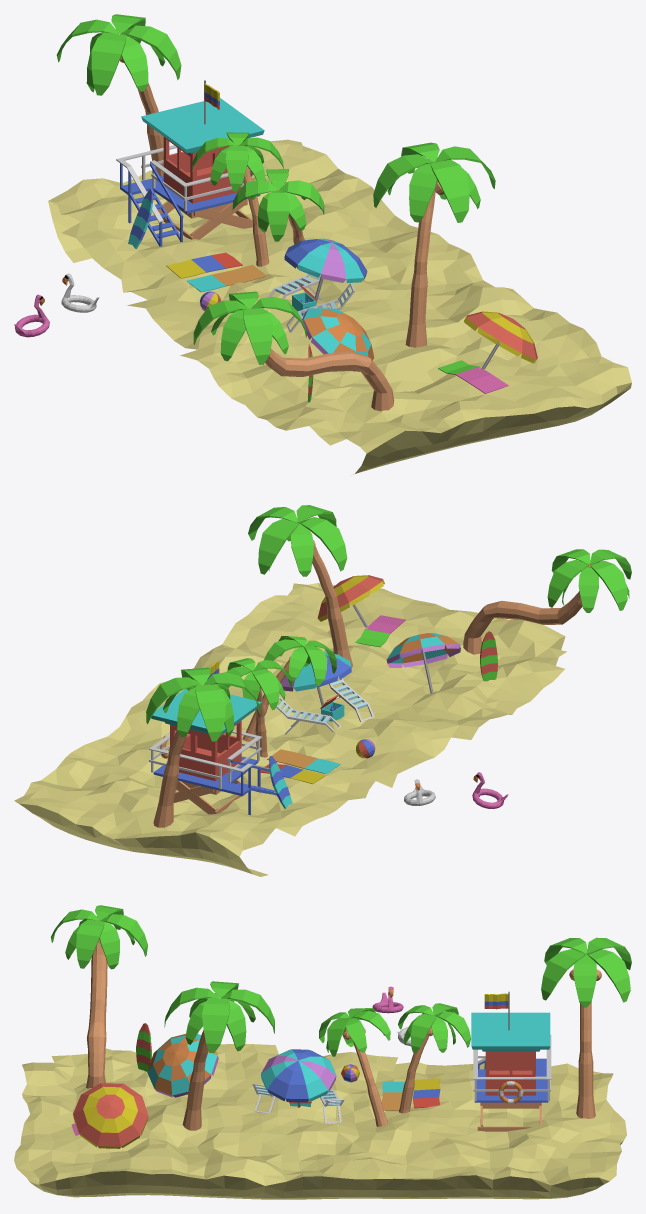
The model's file is Beach.fbx.
3 views of the same model, one above another, from view 1: azimuth 30°, elevation 25°; view 2: azimuth 150°, elevation 25°; view 3: azimuth 270°, elevation 25° (orthographic). The views are drawn at different scales.
Visible parts, largest first — view 1: SAND, CABIN, PALM1, PALM5, PALM4, PALM2, PALM3, UMBRELLA1, UMBRELLA3, UMBRELLA2, TOWEL2, TOWEL1 (+4 smaller); view 2: SAND, CABIN, PALM5, PALM1, PALM4, PALM3, PALM2, UMBRELLA3, UMBRELLA2, UMBRELLA1, TOWEL3, TOWEL1 (+6 smaller); view 3: SAND, CABIN, PALM4, PALM5, PALM1, UMBRELLA2, UMBRELLA1, PALM2, PALM3, UMBRELLA3, TOWEL2, SURFBOARD2 (+3 smaller).
Boxes of the visible parts, <box> form: SAND: <box>48,139,631,474</box>; CABIN: <box>116,98,264,246</box>; PALM1: <box>373,142,495,347</box>; PALM5: <box>193,291,394,411</box>; PALM4: <box>56,14,181,176</box>; PALM2: <box>192,132,283,266</box>; PALM3: <box>232,169,324,268</box>; UMBRELLA1: <box>284,238,367,303</box>; UMBRELLA3: <box>302,308,374,371</box>; UMBRELLA2: <box>464,311,537,369</box>; TOWEL2: <box>166,252,242,278</box>; TOWEL1: <box>186,264,266,292</box>; SAND: <box>14,583,566,876</box>; CABIN: <box>149,689,281,815</box>; PALM5: <box>463,549,631,654</box>; PALM1: <box>248,505,352,667</box>; PALM4: <box>146,667,259,827</box>; PALM3: <box>242,636,336,741</box>; PALM2: <box>224,658,292,757</box>; UMBRELLA3: <box>386,633,460,693</box>; UMBRELLA2: <box>317,575,384,627</box>; UMBRELLA1: <box>281,652,351,706</box>; TOWEL3: <box>355,615,405,647</box>; TOWEL1: <box>267,749,340,773</box>; SAND: <box>14,1044,626,1199</box>; CABIN: <box>471,1012,551,1131</box>; PALM4: <box>541,937,631,1118</box>; PALM5: <box>50,905,147,1088</box>; PALM1: <box>164,981,274,1130</box>; UMBRELLA2: <box>73,1083,148,1148</box>; UMBRELLA1: <box>261,1049,336,1107</box>; PALM2: <box>398,1003,471,1113</box>; PALM3: <box>319,1008,390,1126</box>; UMBRELLA3: <box>147,1034,218,1097</box>; TOWEL2: <box>413,1078,440,1108</box>; SURFBOARD2: <box>136,1023,151,1071</box>.
Bounding box in the file's own units: 8775 × 4216 × 12651.
